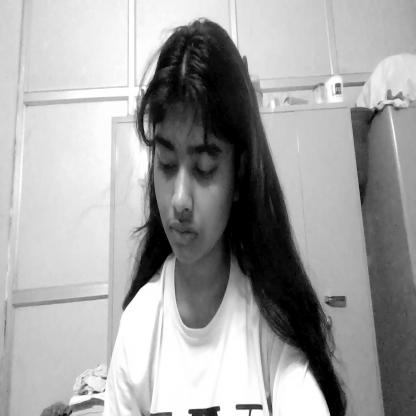Distracted: (138, 14, 252, 276)
